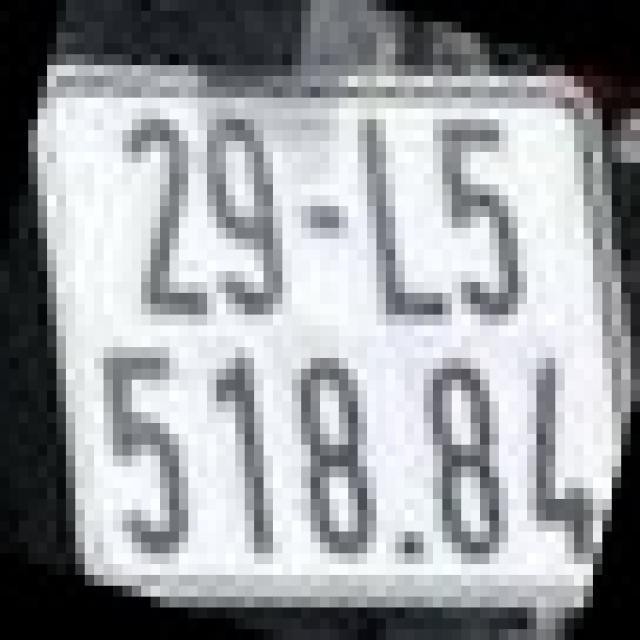1: (207, 347, 273, 553)
2: (122, 108, 216, 314)
4: (526, 358, 602, 554)
5: (94, 347, 188, 553), (442, 119, 527, 315)
8: (301, 358, 377, 554), (433, 358, 499, 564)
9: (207, 108, 292, 314)
L: (358, 119, 452, 315)
